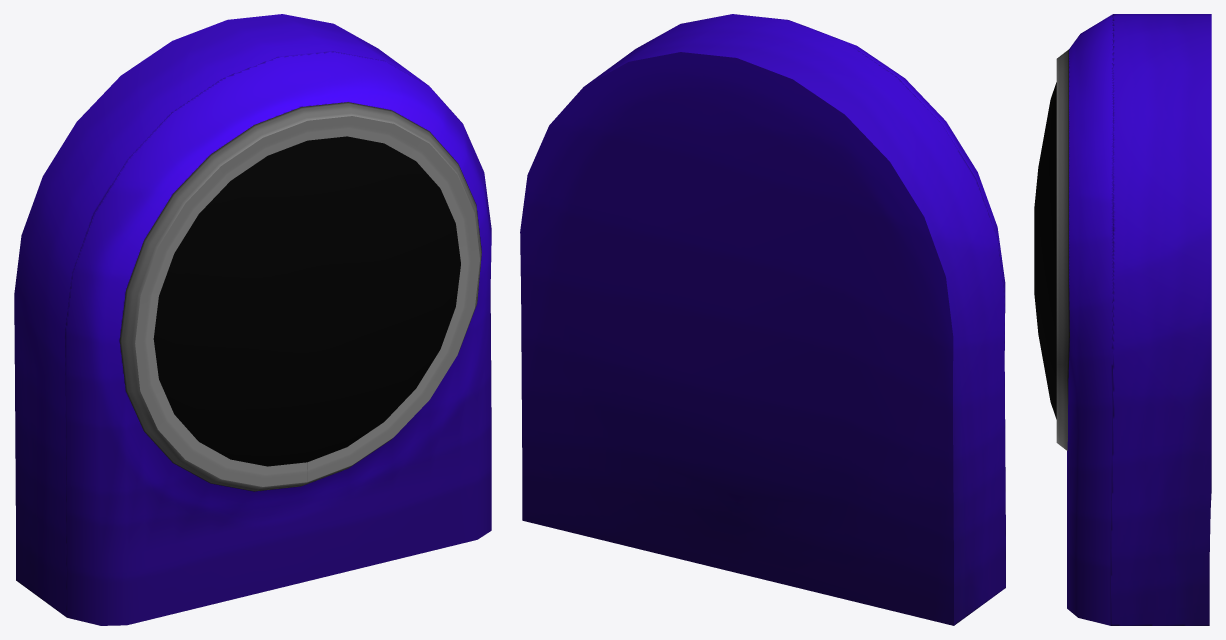
File: ClockTimer.fbx
3 views of the same model, side by side, from view 1: azimuth 30°, elevation 25°; view 2: azimuth 150°, elevation 25°; view 3: azimuth 270°, elevation 25° (orthographic). The views are drawn at different scales.
Visible parts, largest first — view 1: Clock, ClockGlass; view 2: Clock; view 3: Clock, ClockGlass.
Boxes of the visible parts, <box> form: Clock: <box>14,14,491,625</box>; ClockGlass: <box>153,136,460,466</box>; Clock: <box>520,14,1005,625</box>; Clock: <box>1056,14,1211,625</box>; ClockGlass: <box>1034,82,1056,419</box>.
Size of the model in its own units: 146 by 166 by 54.42.
